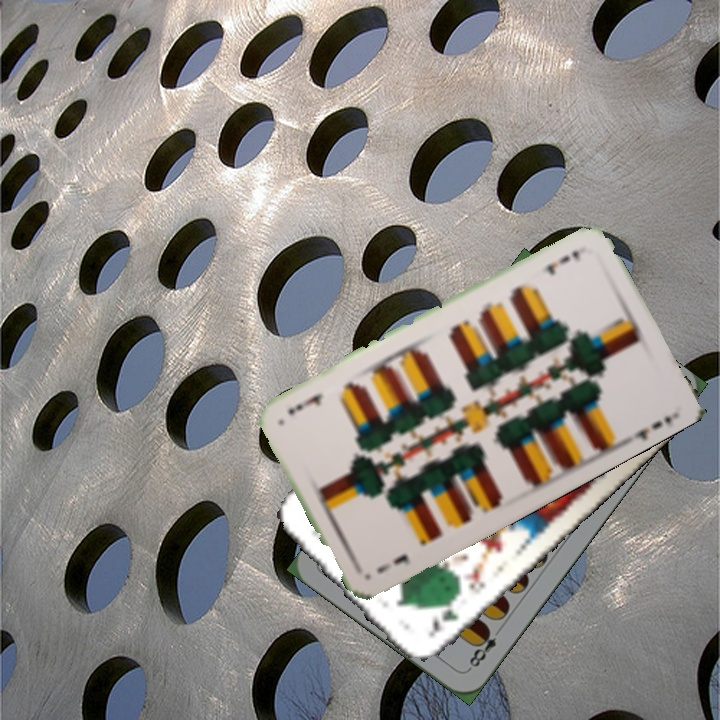E7: (537, 246, 583, 278), (373, 550, 413, 576)
E8: (464, 623, 505, 673)
GK: (423, 592, 462, 640)
